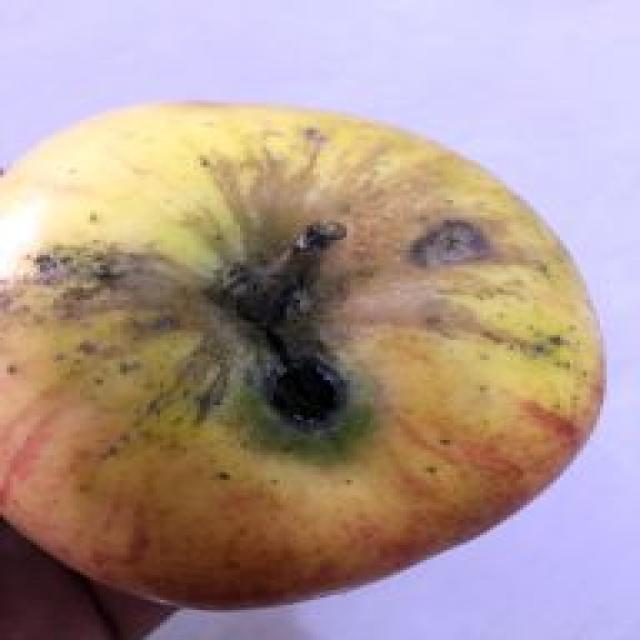Bad_Apple: (2, 104, 603, 608)
